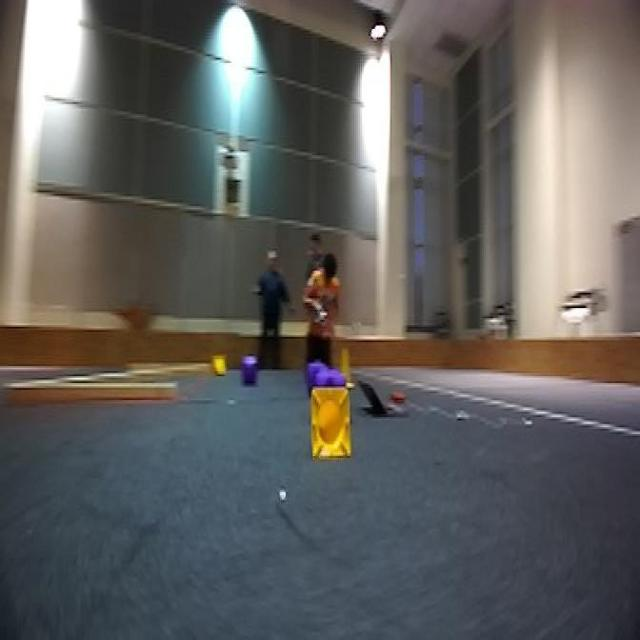frc_cone: (307, 383, 358, 468), (335, 347, 355, 388), (212, 349, 230, 378)
frc_cube: (241, 354, 262, 392), (314, 374, 354, 392)
